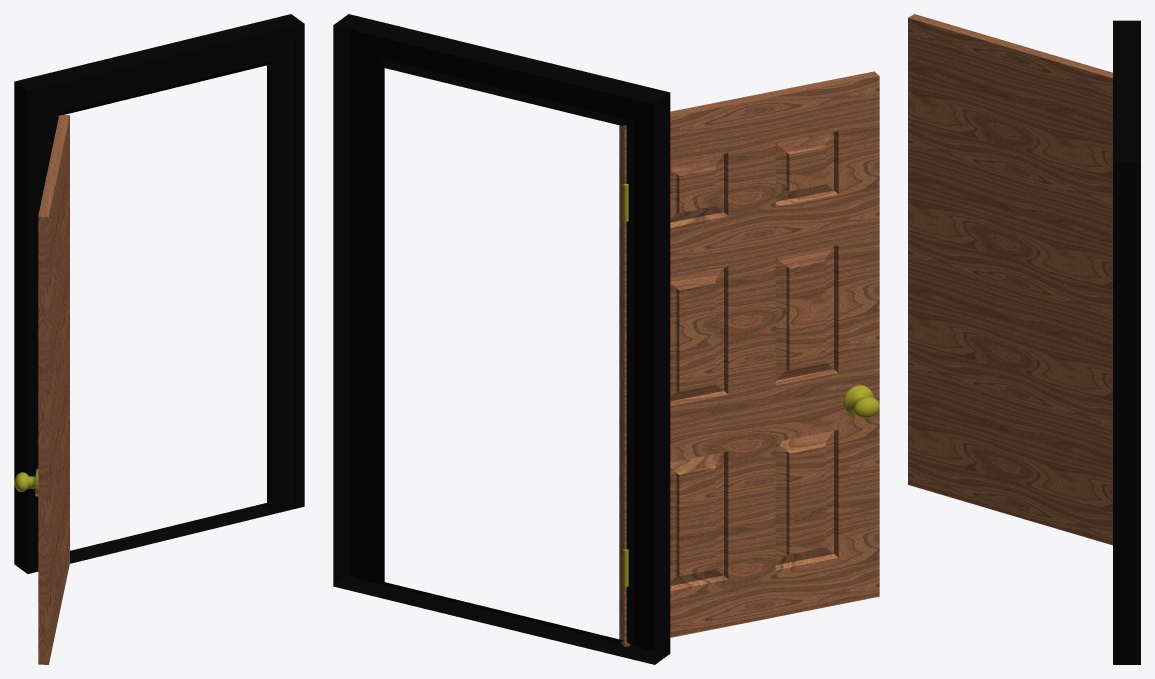
File: door_open.FBX
3 views of the same model, side by side, from view 1: azimuth 30°, elevation 25°; view 2: azimuth 150°, elevation 25°; view 3: azimuth 270°, elevation 25° (orthographic). The views are drawn at different scales.
Parts seen in each view (by area): view 1: Box001, Box002, Cylinder003; view 2: Box002, Box001, Cylinder003; view 3: Box002, Box001.
Boxes of the visible parts, x1,y1,x2,y2 form: Box001: [14, 14, 304, 573]; Box002: [38, 115, 69, 664]; Cylinder003: [14, 469, 38, 496]; Box002: [619, 71, 879, 646]; Box001: [333, 14, 670, 664]; Cylinder003: [843, 385, 879, 418]; Box002: [908, 14, 1112, 545]; Box001: [1113, 20, 1140, 664].
Size of the model in its own units: 80.65 by 100 by 41.92.
3 materials, 1 textured.
